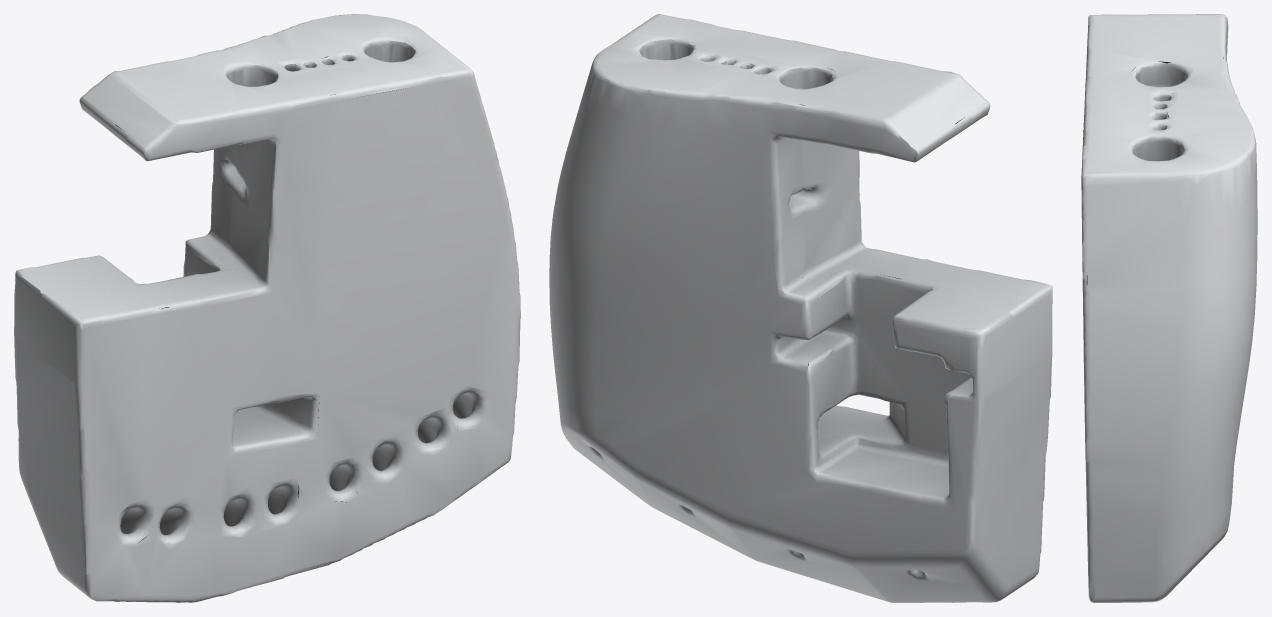
The model's file is left_palm.glb.
3 renders of one model, left to right at view 1: azimuth 30°, elevation 25°; view 2: azimuth 150°, elevation 25°; view 3: azimuth 270°, elevation 25°, orthographic. The views are drawn at different scales.
Parts seen in each view (by area): view 1: left_palm; view 2: left_palm; view 3: left_palm.
Boxes of the visible parts, bbox=[...] form: left_palm: bbox=[14, 14, 520, 602]; left_palm: bbox=[549, 14, 1052, 602]; left_palm: bbox=[1081, 14, 1257, 602].
Size of the model in its own units: 0.0678 by 0.0724 by 0.0233.
Materials: 1 (1 with a texture image).
